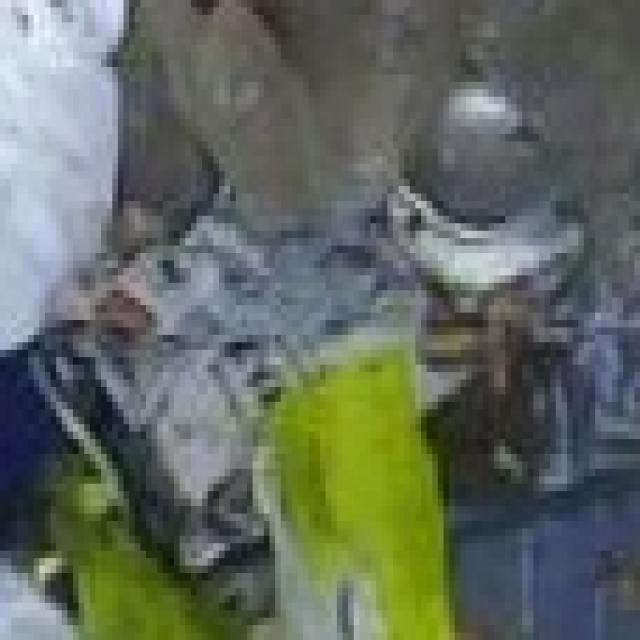litter: (26, 31, 614, 640)
